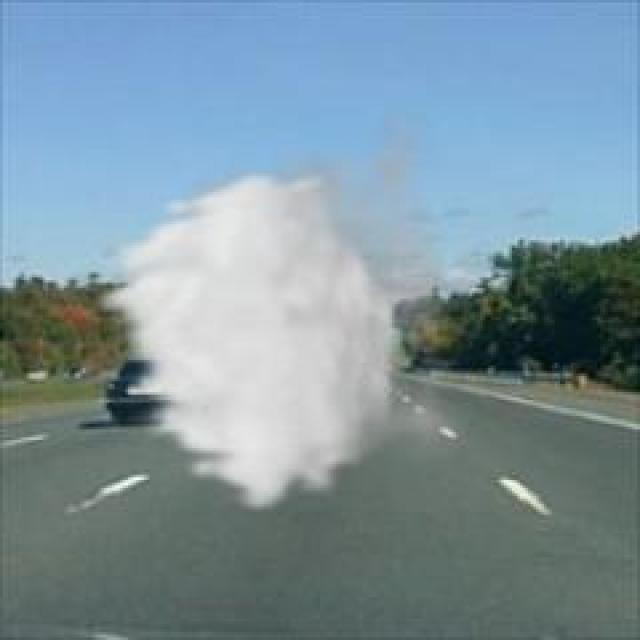Smoke: (95, 134, 473, 504)
